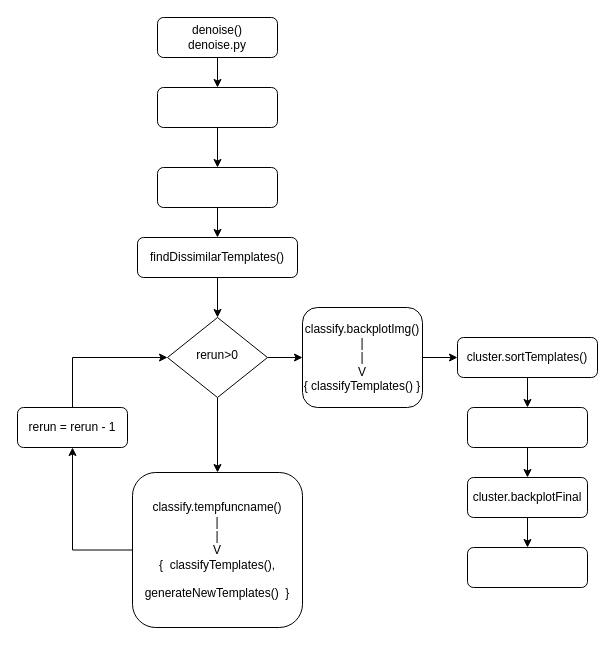
Image size: 615x645. Some labels were removed from this diagram. Each missing label, with the centre of its shape:
cluster.cluster(): the point at 527,427
Denoised image: the point at 527,567
generateTemplates(): the point at 217,187
loadData(): the point at 217,107
